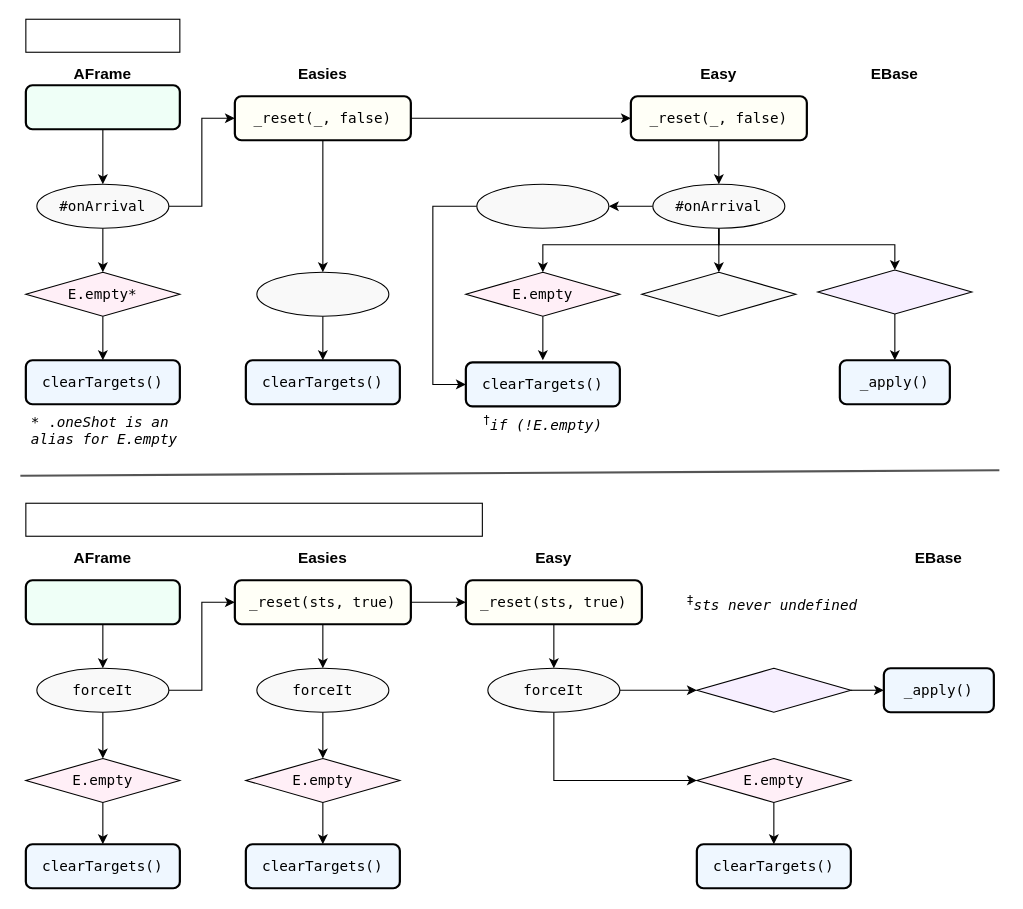
This 1023x909 diagram has some shape labels left out. Each missing label, with the centre of its shape:
# oneShot †: point 542,205
#animate(): point 102,35
#oneShot: point 322,293
#stop(_, false): point 102,107
#stop(sts, true): point 102,602
arrive() stop() return() pause() cancel(): point 253,519
else: point 894,291
else ‡: point 773,689
undefined: point 718,293
